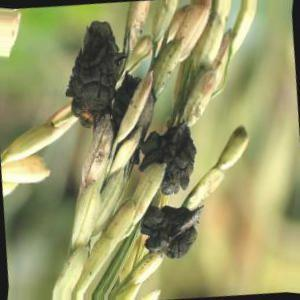Leaf_Scald: (68, 21, 116, 124), (149, 206, 205, 268), (140, 128, 190, 190)
